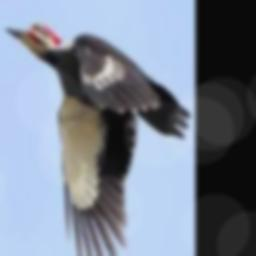Woodpecker: (4, 22, 191, 256)
